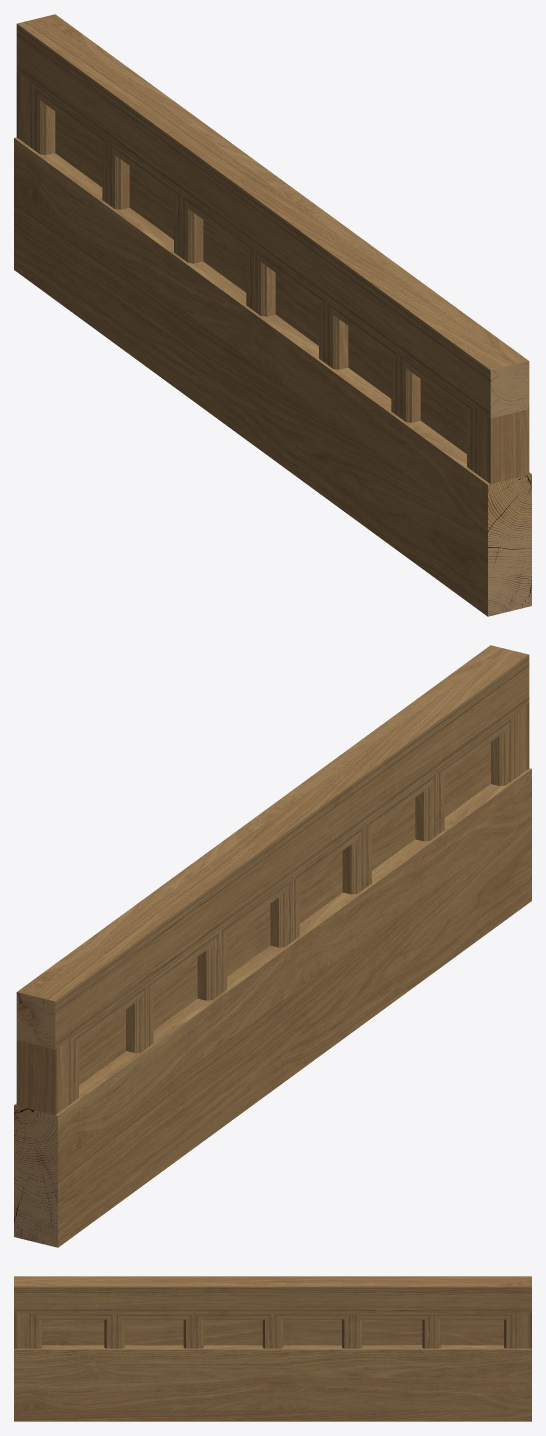
Rendered from SM_WindoSill03Ec.fbx.
3 views of the same model, one above another, from view 1: azimuth 30°, elevation 25°; view 2: azimuth 150°, elevation 25°; view 3: azimuth 270°, elevation 25° (orthographic). The views are drawn at different scales.
Visible parts, largest first — view 1: SM_WindoSill03Ec; view 2: SM_WindoSill03Ec; view 3: SM_WindoSill03Ec.
Part boxes in pixels (left/top/right/bottom): SM_WindoSill03Ec: left=14, top=14, right=531, bottom=616; SM_WindoSill03Ec: left=14, top=645, right=531, bottom=1247; SM_WindoSill03Ec: left=14, top=1276, right=531, bottom=1421.
Size of the model in its own units: 12 by 223 by 63.84.
1 material, 1 textured.
